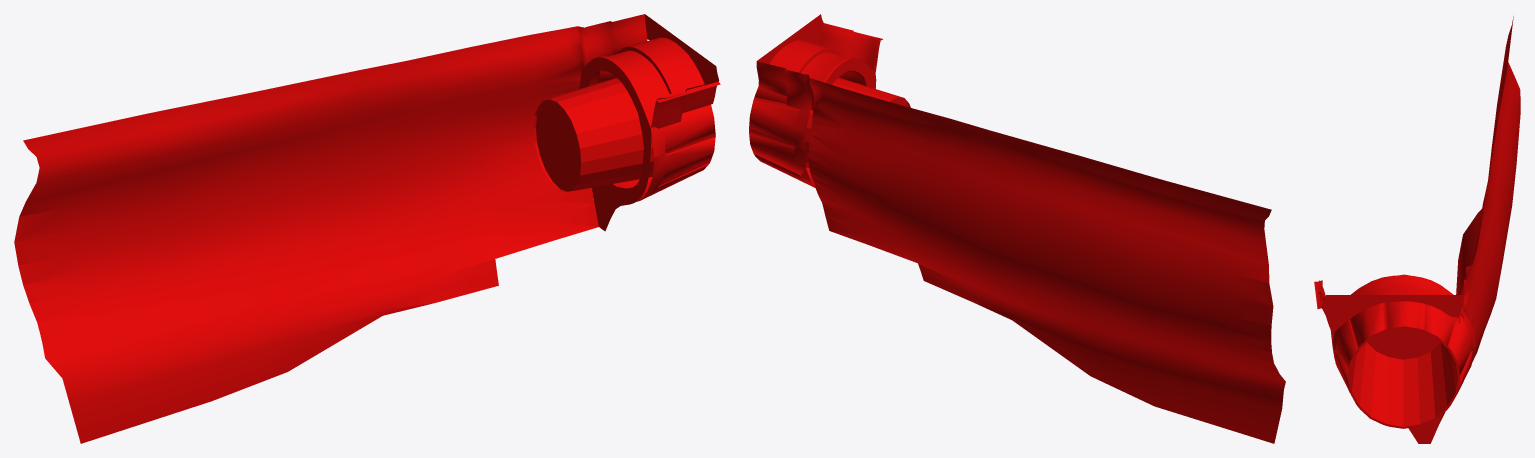
File: rafale_highlight_11.fbx
3 views of the same model, side by side, from view 1: azimuth 30°, elevation 25°; view 2: azimuth 150°, elevation 25°; view 3: azimuth 270°, elevation 25° (orthographic). The views are drawn at different scales.
Parts seen in each view (by area): view 1: rafale_highlight_11; view 2: rafale_highlight_11; view 3: rafale_highlight_11.
Part boxes in pixels (x1,y1,x2,y2): rafale_highlight_11: (14, 14, 720, 443); rafale_highlight_11: (749, 14, 1285, 443); rafale_highlight_11: (1314, 16, 1520, 443).
Bounding box in the file's own units: 177 × 79.69 × 53.63.
